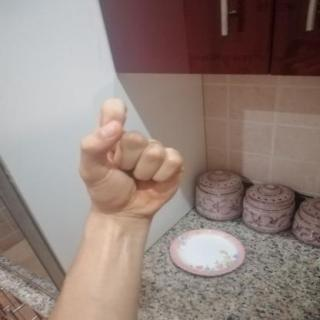FAA: (67, 88, 191, 225)
